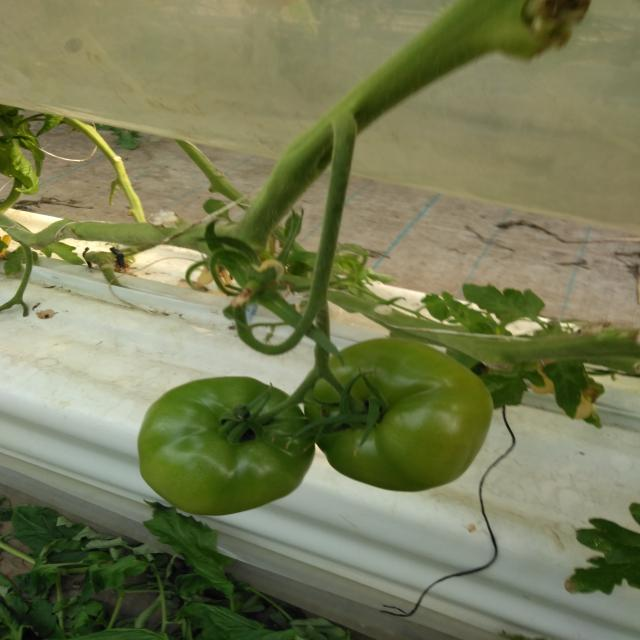n-unriped: (304, 338, 494, 492), (137, 376, 316, 516)
